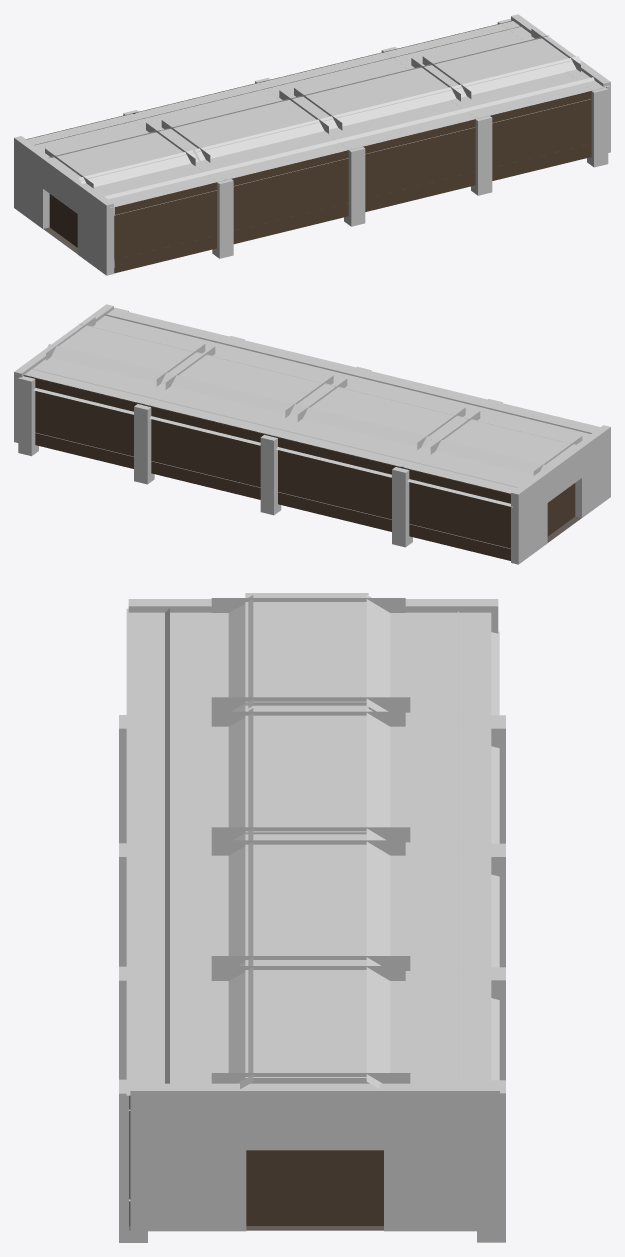
File: MoonHallway.fbx
3 views of the same model, one above another, from view 1: azimuth 30°, elevation 25°; view 2: azimuth 150°, elevation 25°; view 3: azimuth 270°, elevation 25° (orthographic). The views are drawn at different scales.
Parts seen in each view (by area): view 1: Wall__1_, Plane_7, Plane_9, Cube_1, Plane_11, Plane_5, Plane_6, Plane_8, Plane__1__5, Plane__1__6, Plane_10, Plane_4 (+22 smaller); view 2: Wall, Plane_7, Plane_9, Cube_1, Plane_11, Plane_5, Plane_6, Plane_8, Plane__1__5, Plane__1__6, Plane_10, Plane_4 (+22 smaller); view 3: Cube, Plane_7, Plane_9, Plane_11, Plane_5, Plane_6, Plane_8, Plane__1__5, Wall__3_, Plane__1__6, Plane_4, Plane_10 (+36 smaller).
Boxes of the visible parts, x1,y1,x2,y2 form: Wall__1_: [114, 87, 606, 272]; Plane_7: [161, 100, 319, 153]; Plane_9: [293, 67, 452, 121]; Cube_1: [14, 136, 113, 234]; Plane_11: [424, 38, 572, 89]; Plane_5: [45, 132, 186, 181]; Plane_6: [135, 81, 281, 127]; Plane_8: [267, 48, 422, 96]; Plane__1__5: [210, 131, 357, 179]; Plane__1__6: [342, 97, 490, 147]; Plane_10: [400, 21, 524, 65]; Plane_4: [27, 113, 149, 155]; Wall: [23, 375, 510, 560]; Plane_7: [311, 386, 467, 439]; Plane_9: [178, 354, 335, 406]; Cube_1: [511, 425, 610, 524]; Plane_11: [59, 325, 204, 374]; Plane_5: [443, 419, 582, 468]; Plane_6: [270, 419, 417, 466]; Plane_8: [138, 385, 285, 434]; Plane__1__5: [346, 368, 491, 414]; Plane__1__6: [205, 336, 359, 382]; Plane_10: [24, 360, 161, 403]; Plane_4: [404, 451, 533, 493]; Cube: [130, 1083, 499, 1150]; Plane_7: [245, 705, 368, 832]; Plane_9: [245, 834, 366, 960]; Plane_11: [245, 961, 366, 1077]; Plane_5: [245, 593, 368, 702]; Plane_6: [390, 721, 491, 850]; Plane_8: [390, 850, 491, 979]; Plane__1__5: [126, 721, 228, 850]; Wall__3_: [129, 1095, 383, 1225]; Plane__1__6: [126, 850, 228, 979]; Plane_4: [390, 612, 491, 719]; Plane_10: [390, 976, 491, 1083].
Size of the model in its own units: 20201 by 3170 by 6697.
